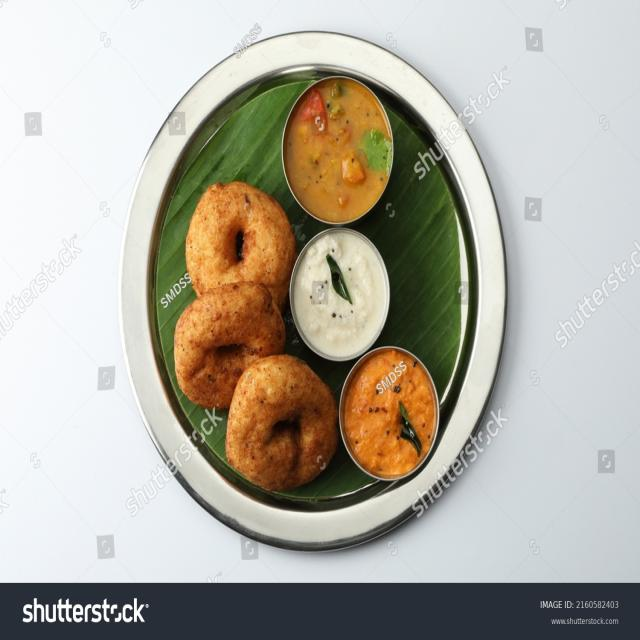MEDU VADA: (0, 0, 640, 582), (150, 131, 400, 510), (181, 182, 338, 490), (346, 89, 478, 429)
